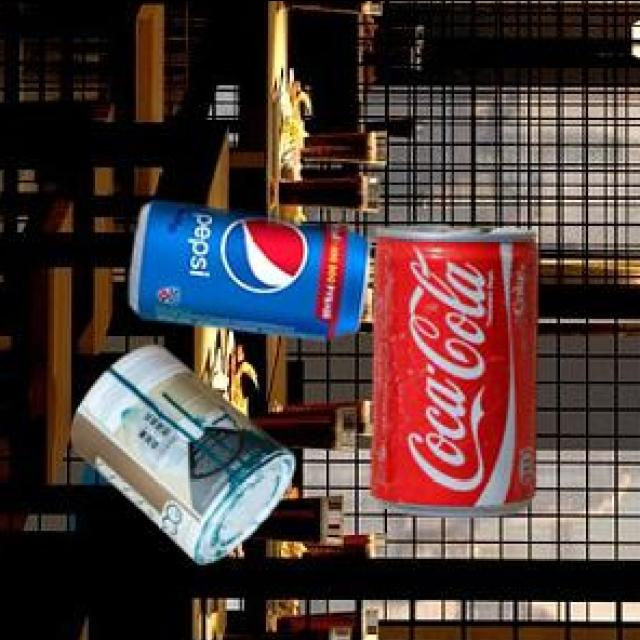logam: (373, 222, 542, 514), (75, 341, 297, 559), (133, 198, 373, 334)
